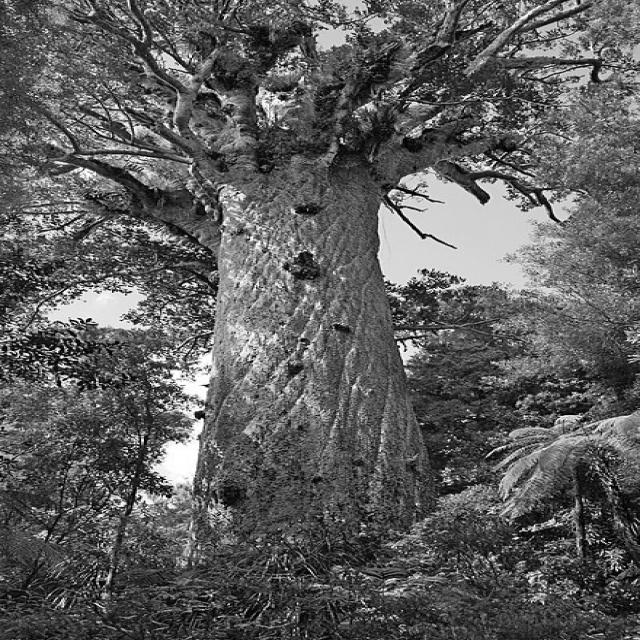Kauri: (16, 2, 554, 526)
